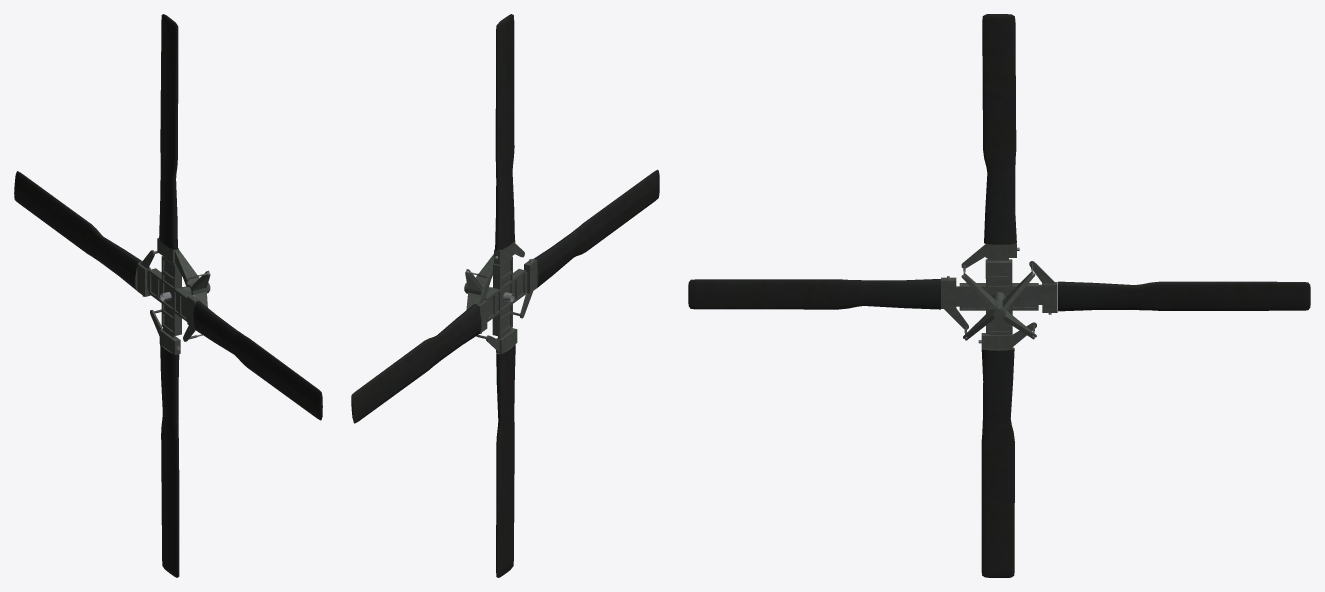
Rendered from sh60_tail.glb.
3 renders of one model, left to right at view 1: azimuth 30°, elevation 25°; view 2: azimuth 150°, elevation 25°; view 3: azimuth 270°, elevation 25°, orthographic.
Parts seen in each view (by area): view 1: tail; view 2: tail; view 3: tail.
Boxes of the visible parts, x1,y1,x2,y2 form: tail: (14, 14, 322, 577); tail: (351, 14, 659, 577); tail: (688, 14, 1310, 577).
Bounding box in the file's own units: 0.345 × 4.01 × 4.01.
1 material, 1 textured.
